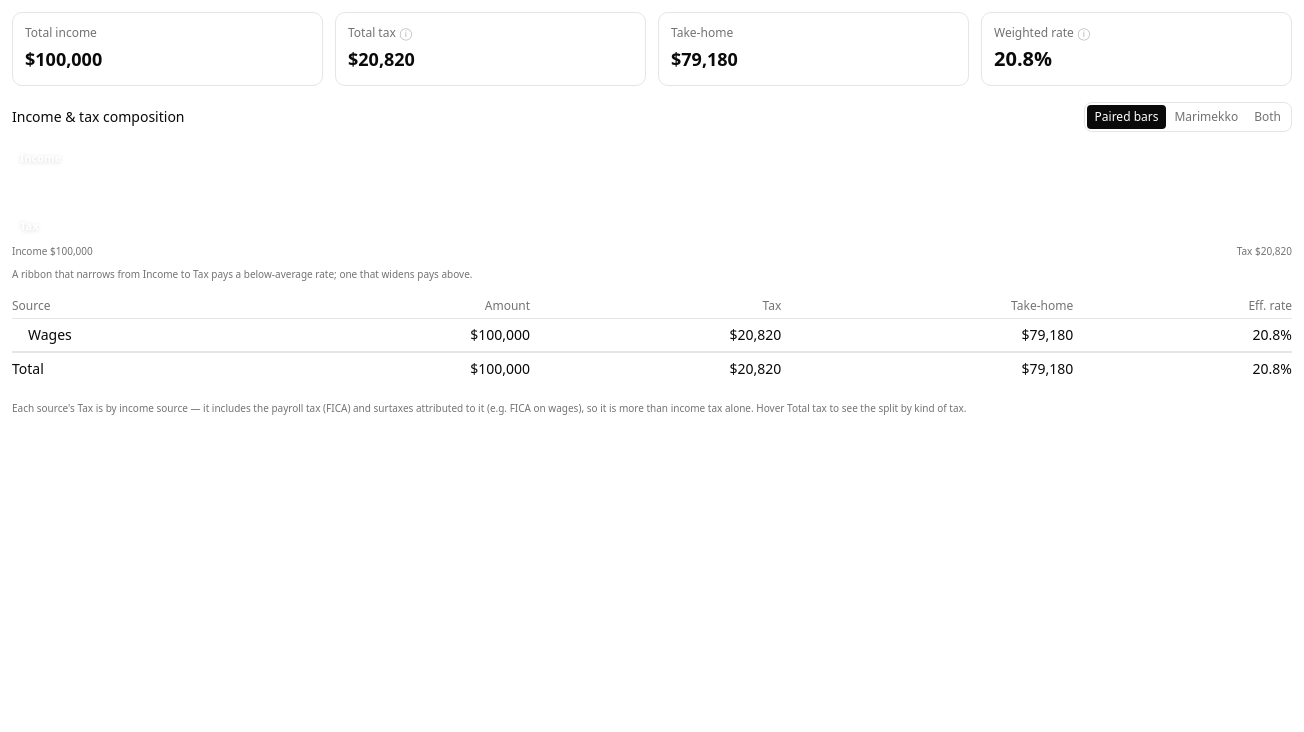
Test: OverallBreakdown › toggles composition views when there is tax
expect the text "Share of income vs. share of tax" is not shown: met
Click the button "Marimekko" at x=1206, y=117, box [1166,105,1246,129]
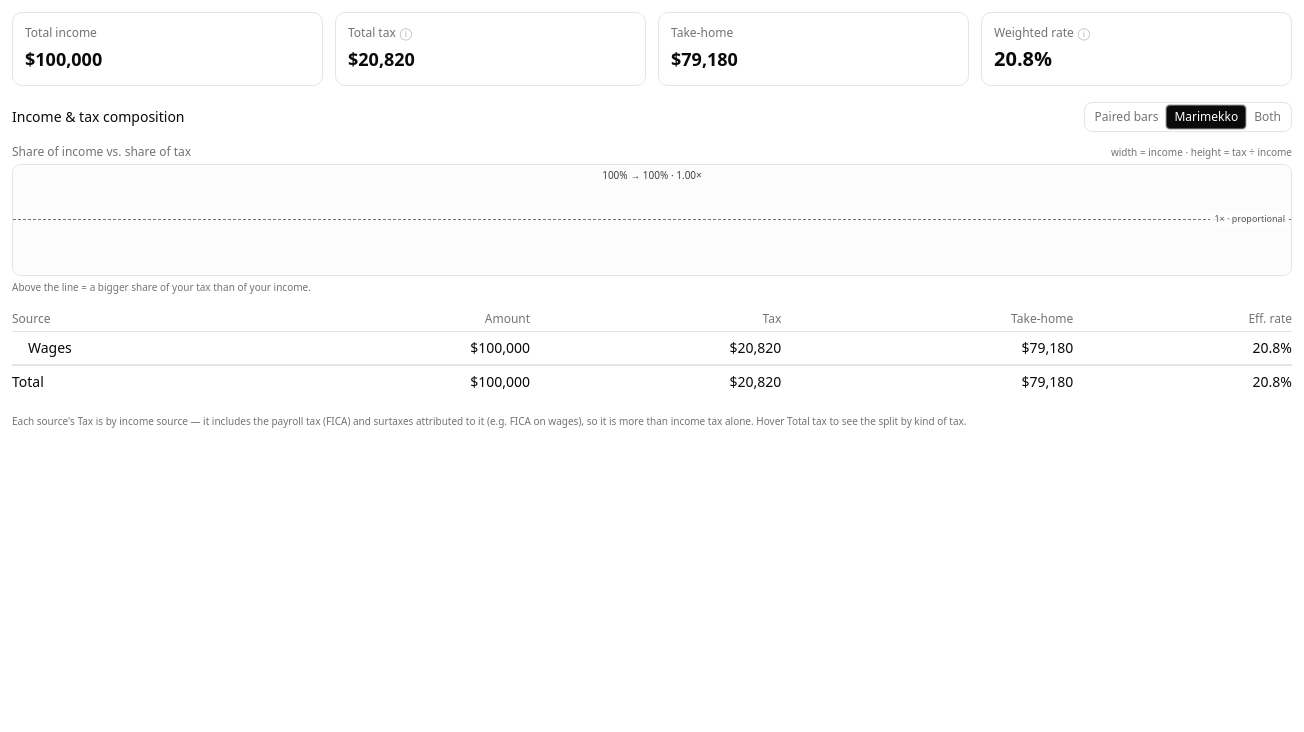
expect the text "Share of income vs. share of tax" is shown: met, box [12,144,191,160]
Click the button "Both" at x=1268, y=117, box [1246,105,1289,129]
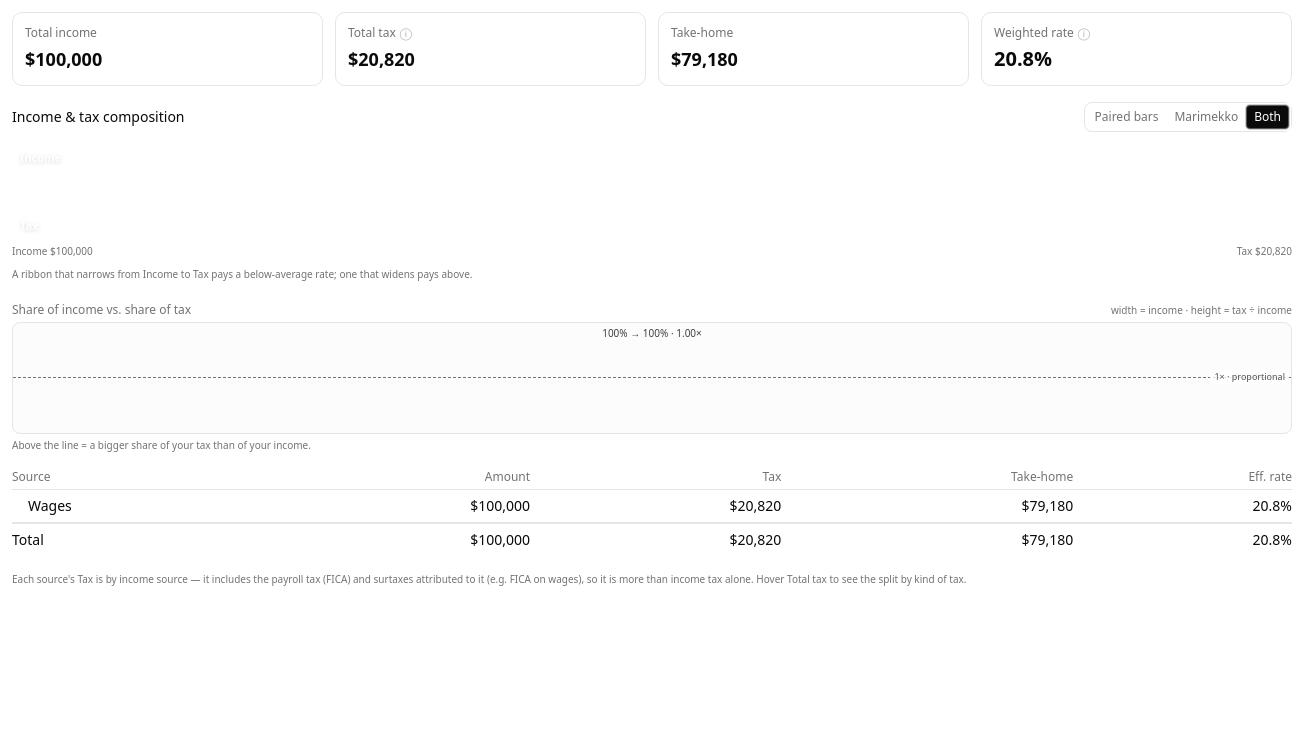
expect the text "Share of income vs. share of tax" is shown: met, box [12,302,191,318]
Note: Toggling back to bars-only hides the Marimekko again (proves the toggle flips both ways).
Click the button "Paired bars" at x=1127, y=117, box [1087,105,1166,129]
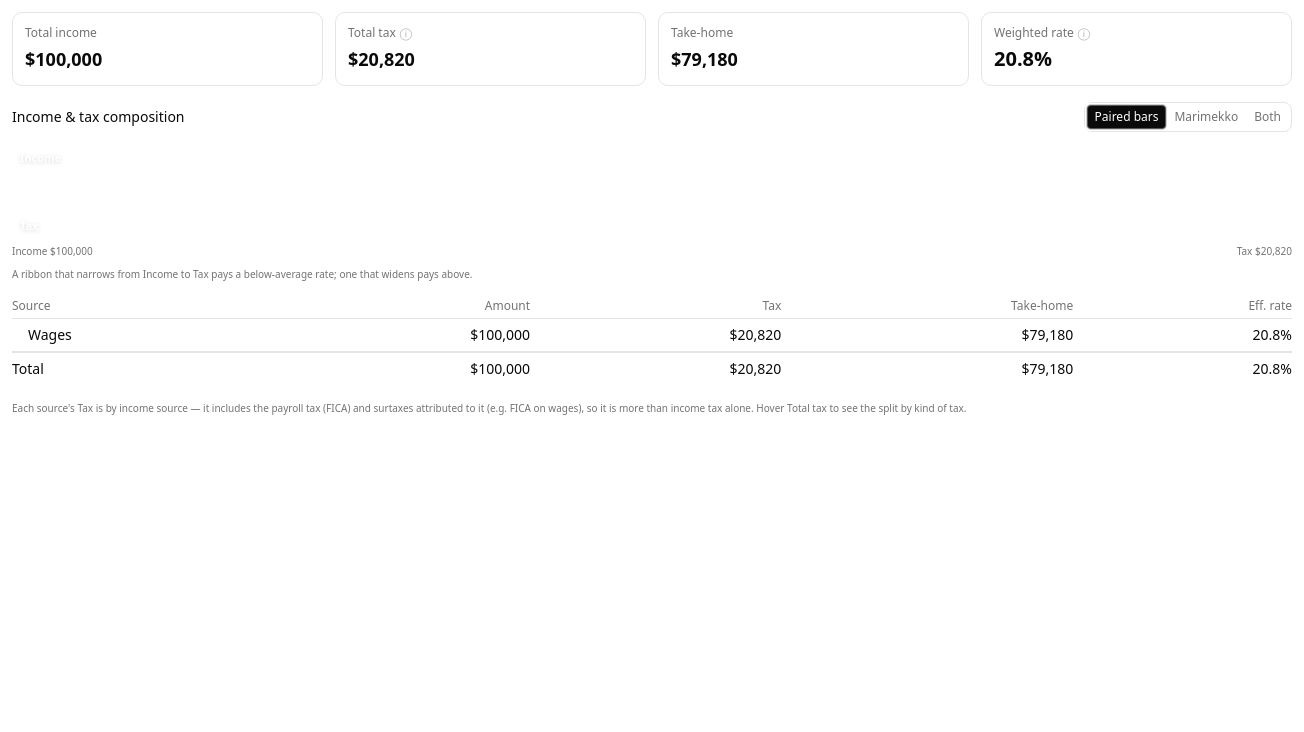
expect the text "Share of income vs. share of tax" is gone: met
